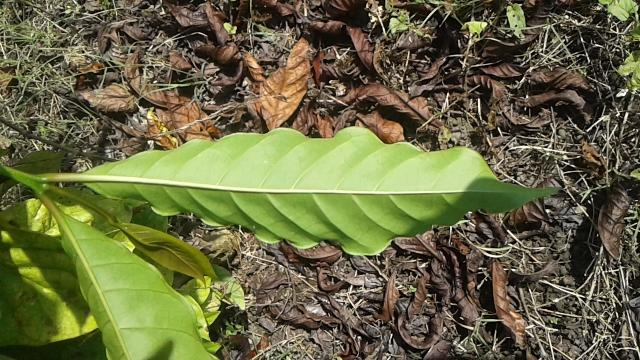healthy: (78, 126, 563, 255)
